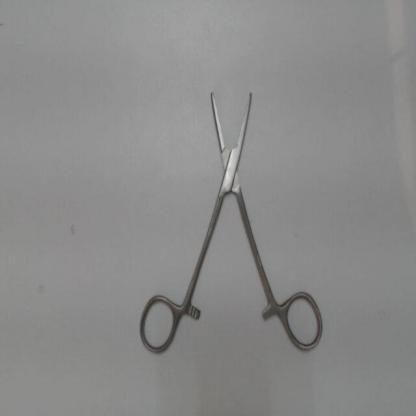Mayo Needle Holder: (131, 73, 328, 359)
